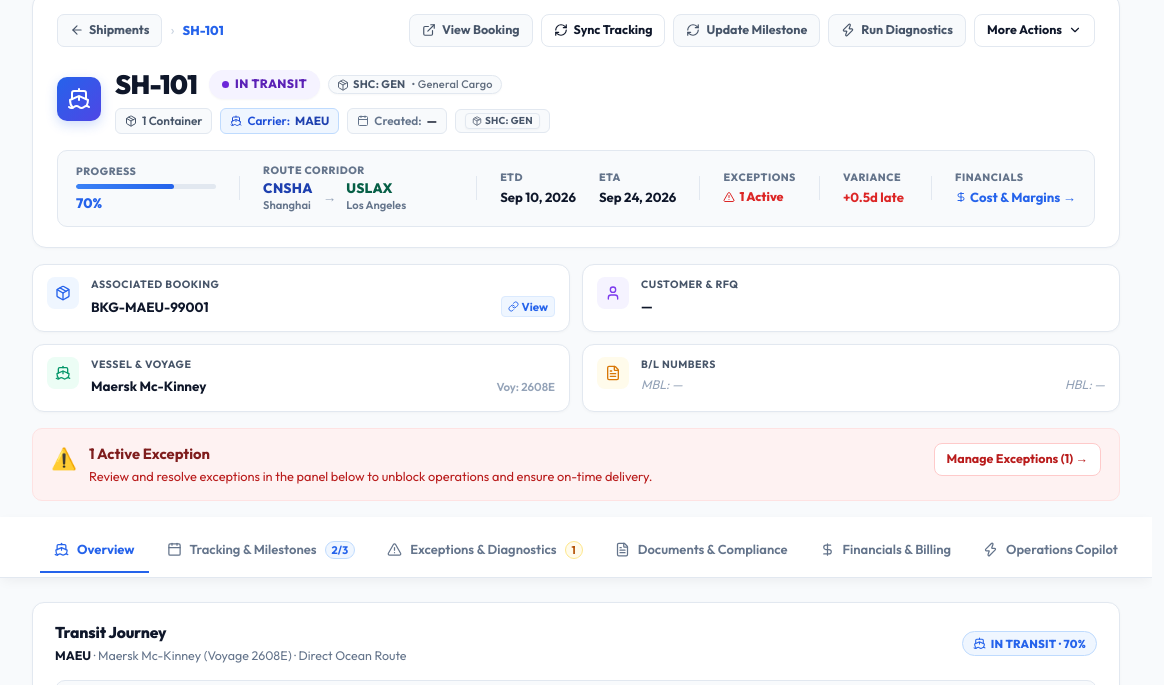
Scenario: ShipmentDetail Workspace Tabs › switches to Exceptions tab when clicked
The image size is (1164, 685).
Expected: the heading "Transit Journey" is shown, [55,622,166,642]
Click the tab "Exceptions & Diagnostics 1" at (485, 551), box [373,529,597,573]
(page scrolled)
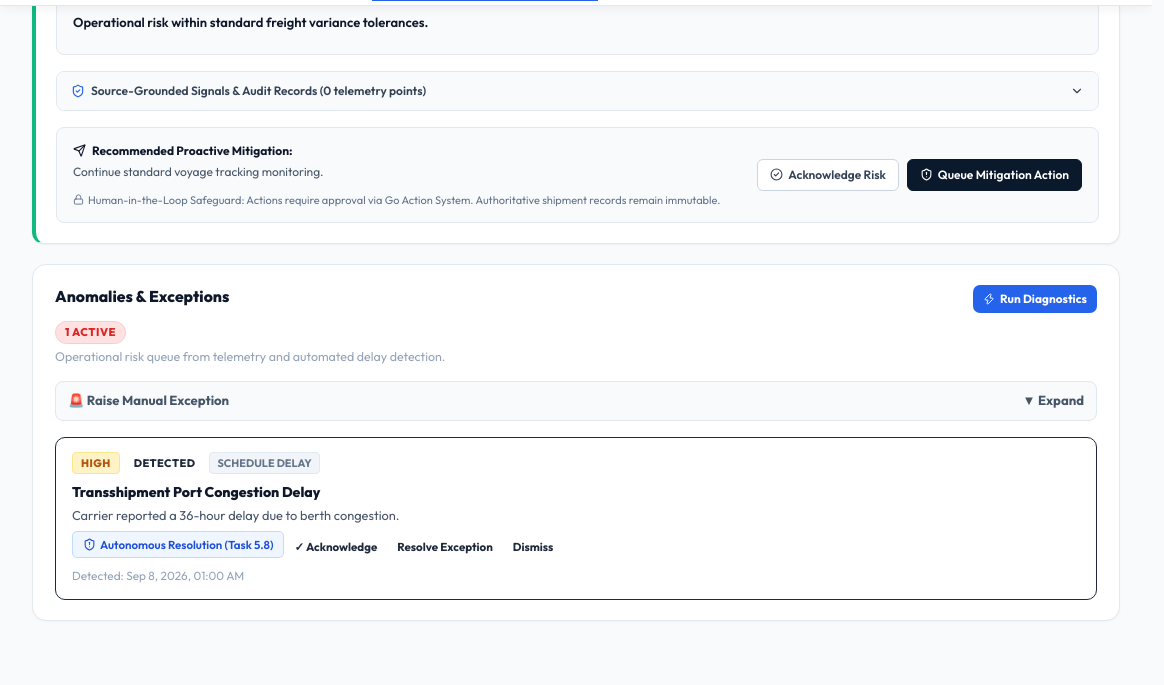
Expected: the heading "Transshipment Port Congestion Delay" is shown, [72,483,320,501]
Now the heading "Anomalies & Exceptions" is shown, box [55,285,229,309]
